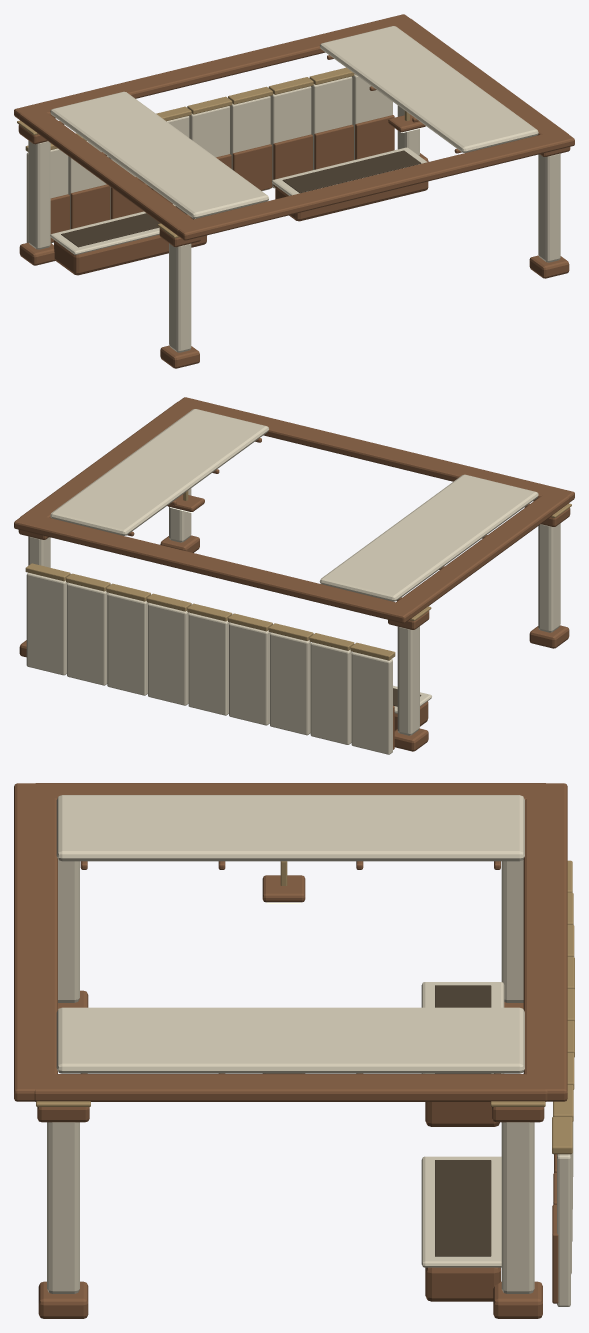
The model's file is TidalD14Landing_r001.glb.
3 renders of one model, top to bottom at view 1: azimuth 30°, elevation 25°; view 2: azimuth 150°, elevation 25°; view 3: azimuth 270°, elevation 25°, orthographic. The views are drawn at different scales.
Parts seen in each view (by area): view 1: T14L_FloatingCofferField_0, T14L_FloatingCofferField_1, T14L_CrossCanopyBeam_1, T14L_CrossCanopyBeam_0, T14L_LongCanopyBeam_0, T14L_LongCanopyBeam_1, T14L_PlanterBase_0, T14L_FlutedPier_3, T14L_FlutedPier_2, T14L_FlutedPier_0, T14L_ContainedSoil_1, T14L_AcousticBacking_6 (+21 smaller); view 2: T14L_FloatingCofferField_0, T14L_FloatingCofferField_1, T14L_CrossCanopyBeam_0, T14L_CrossCanopyBeam_1, T14L_LongCanopyBeam_0, T14L_AcousticBacking_0, T14L_AcousticBacking_1, T14L_AcousticBacking_5, T14L_AcousticBacking_2, T14L_AcousticBacking_3, T14L_AcousticBacking_4, T14L_AcousticBacking_6 (+9 smaller); view 3: T14L_FloatingCofferField_1, T14L_FloatingCofferField_0, T14L_LongCanopyBeam_1, T14L_CrossCanopyBeam_0, T14L_CrossCanopyBeam_1, T14L_LongCanopyBeam_0, T14L_FlutedPier_1, T14L_FlutedPier_3, T14L_ContainedSoil_1, T14L_PlanterRim_1, T14L_FlutedPier_0, T14L_FlutedPier_2 (+11 smaller).
Part boxes in pixels (x1=…): T14L_FloatingCofferField_0: x1=50, y1=91, x2=268, y2=218; T14L_FloatingCofferField_1: x1=320, y1=26, x2=538, y2=152; T14L_CrossCanopyBeam_1: x1=174, y1=130, x2=574, y2=240; T14L_CrossCanopyBeam_0: x1=14, y1=14, x2=409, y2=119; T14L_LongCanopyBeam_0: x1=19, y1=108, x2=197, y2=236; T14L_LongCanopyBeam_1: x1=391, y1=18, x2=568, y2=136; T14L_PlanterBase_0: x1=54, y1=234, x2=206, y2=275; T14L_FlutedPier_3: x1=538, y1=153, x2=560, y2=262; T14L_FlutedPier_2: x1=169, y1=243, x2=191, y2=352; T14L_FlutedPier_0: x1=28, y1=140, x2=50, y2=249; T14L_ContainedSoil_1: x1=282, y1=150, x2=421, y2=193; T14L_AcousticBacking_6: x1=270, y1=86, x2=311, y2=188; T14L_FloatingCofferField_0: x1=319, y1=474, x2=538, y2=601; T14L_FloatingCofferField_1: x1=50, y1=409, x2=268, y2=535; T14L_CrossCanopyBeam_0: x1=14, y1=512, x2=413, y2=623; T14L_CrossCanopyBeam_1: x1=175, y1=397, x2=574, y2=502; T14L_LongCanopyBeam_0: x1=391, y1=492, x2=569, y2=618; T14L_AcousticBacking_0: x1=351, y1=652, x2=392, y2=754; T14L_AcousticBacking_1: x1=310, y1=642, x2=352, y2=744; T14L_AcousticBacking_5: x1=148, y1=603, x2=189, y2=705; T14L_AcousticBacking_2: x1=270, y1=632, x2=311, y2=735; T14L_AcousticBacking_3: x1=229, y1=623, x2=270, y2=725; T14L_AcousticBacking_4: x1=188, y1=613, x2=229, y2=715; T14L_AcousticBacking_6: x1=107, y1=593, x2=148, y2=695; T14L_FloatingCofferField_1: x1=56, y1=1007, x2=524, y2=1073; T14L_FloatingCofferField_0: x1=56, y1=795, x2=524, y2=861; T14L_LongCanopyBeam_1: x1=34, y1=1074, x2=547, y2=1101; T14L_CrossCanopyBeam_0: x1=523, y1=783, x2=567, y2=1101; T14L_CrossCanopyBeam_1: x1=14, y1=783, x2=57, y2=1101; T14L_LongCanopyBeam_0: x1=36, y1=783, x2=545, y2=799; T14L_FlutedPier_1: x1=501, y1=1122, x2=534, y2=1293; T14L_FlutedPier_3: x1=47, y1=1122, x2=79, y2=1293; T14L_ContainedSoil_1: x1=435, y1=1160, x2=491, y2=1256; T14L_PlanterRim_1: x1=421, y1=1156, x2=501, y2=1267; T14L_FlutedPier_0: x1=501, y1=860, x2=523, y2=1002; T14L_FlutedPier_2: x1=58, y1=859, x2=79, y2=1002.
Size of the model in its own units: 10.78 by 3.77 by 8.14.
